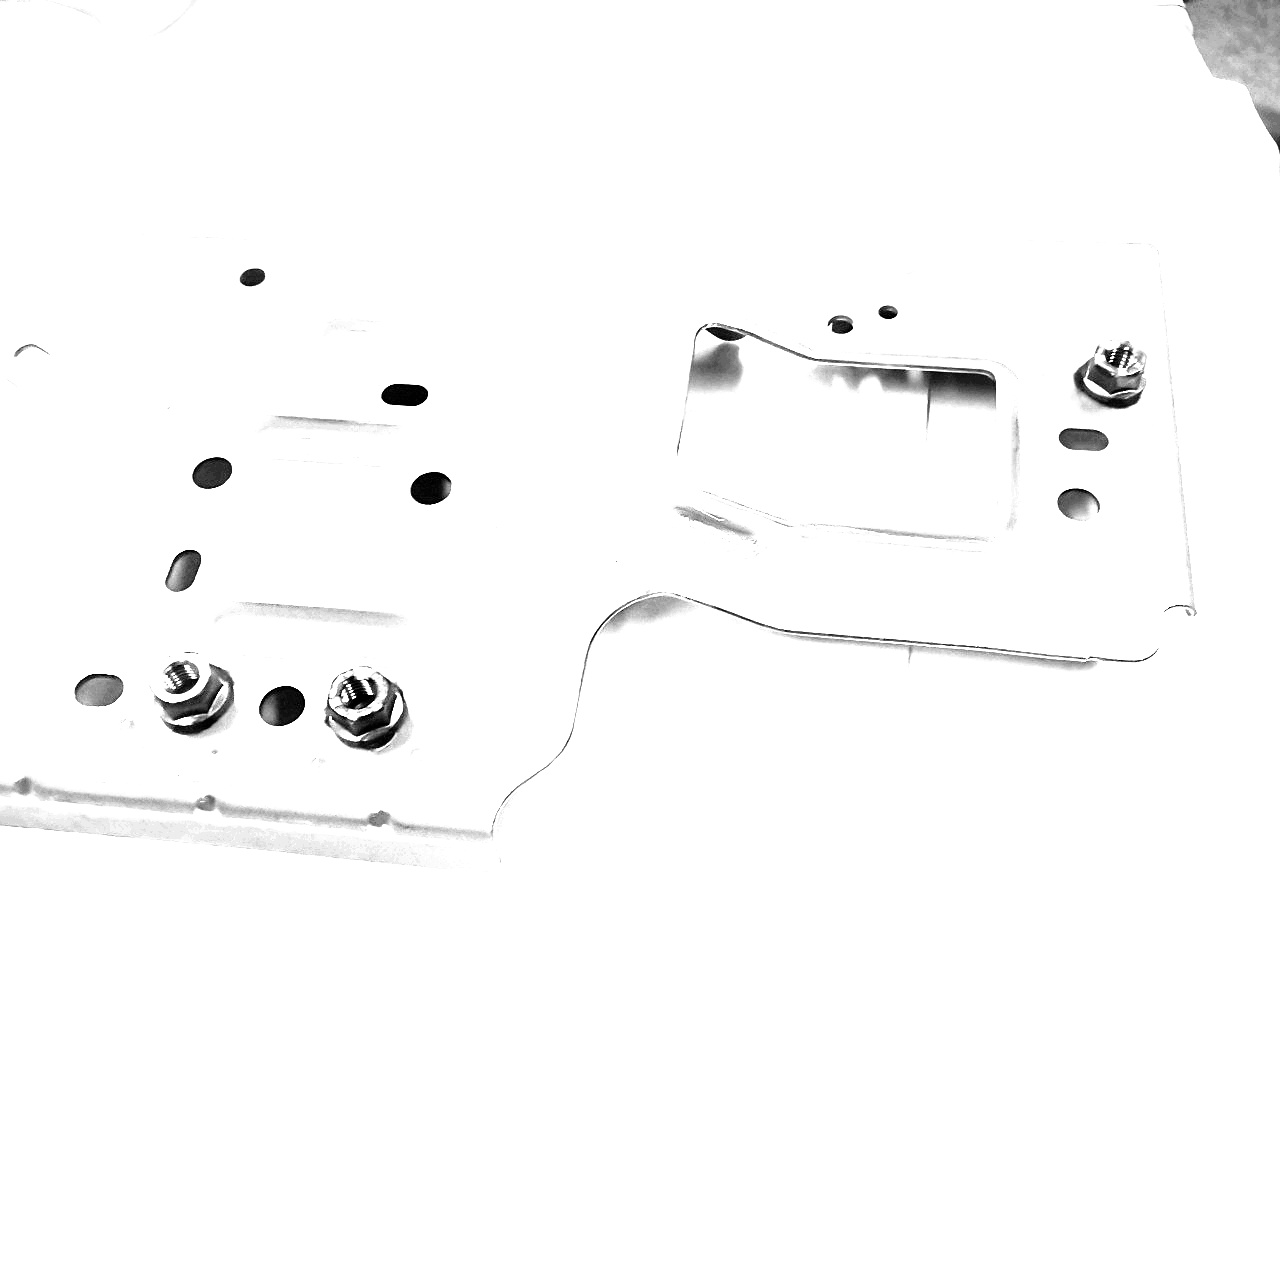dog: (144, 646, 240, 738), (320, 662, 414, 754), (1068, 334, 1152, 411)
